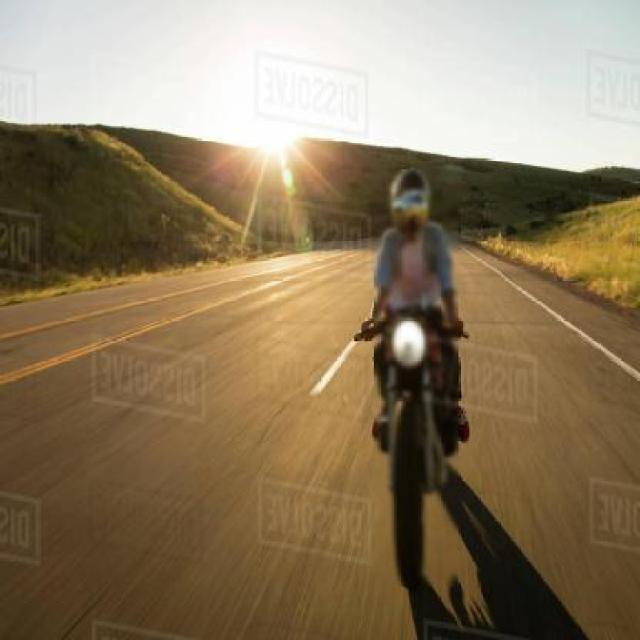helmet: (372, 156, 448, 252)
motorcycle: (318, 134, 506, 614)
